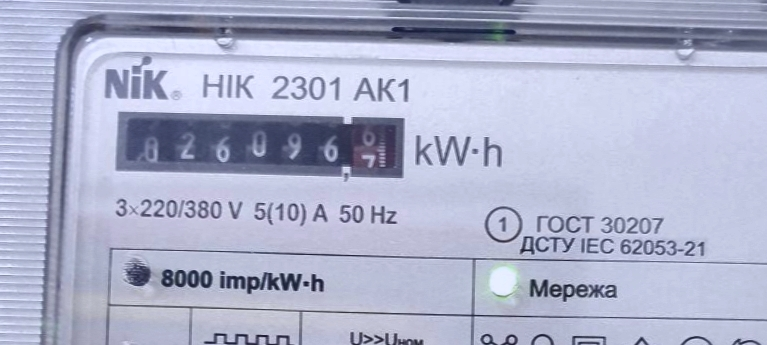0: (248, 124, 269, 160), (140, 130, 160, 162)
2: (176, 127, 197, 162)
6: (213, 130, 232, 165), (321, 129, 339, 162), (358, 120, 378, 147)
7: (359, 149, 377, 170)
9: (284, 128, 303, 161)
screen: (105, 100, 412, 188)
